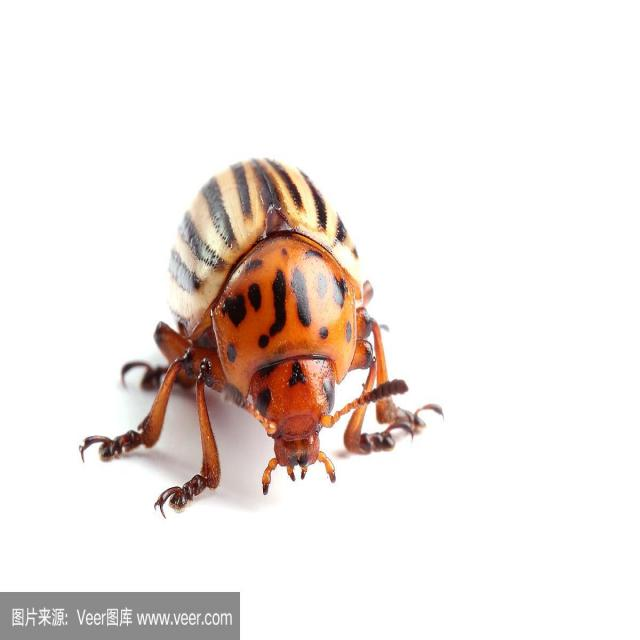ShuCaiHuaBanChong-Grown-: (167, 140, 407, 512)
